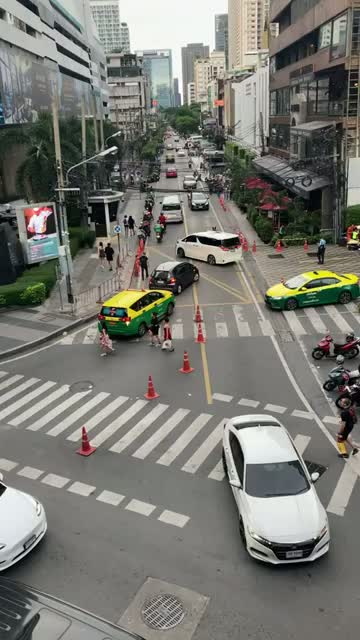bike: (311, 327, 359, 359), (323, 354, 360, 390), (335, 378, 360, 409), (153, 223, 164, 242)
car: (222, 413, 330, 564), (0, 575, 146, 639), (0, 472, 48, 571), (264, 269, 359, 310), (97, 288, 176, 336), (175, 230, 242, 264), (149, 261, 199, 294), (159, 194, 183, 224), (187, 191, 209, 210), (182, 175, 197, 189), (166, 167, 177, 177)
pedestrian: (336, 398, 358, 458), (98, 320, 115, 356), (147, 311, 161, 346), (161, 317, 174, 352), (103, 242, 114, 271), (316, 236, 326, 264), (139, 251, 148, 280), (127, 215, 137, 237), (98, 241, 105, 268), (122, 214, 128, 235), (224, 184, 231, 200)
